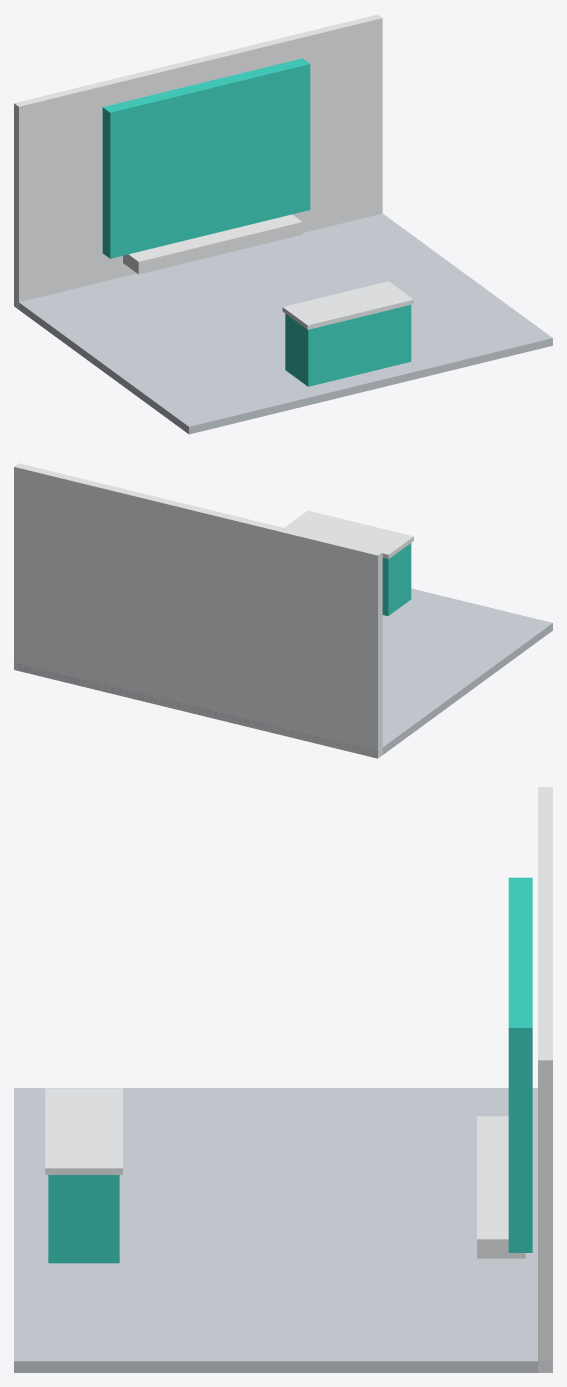
3 renders of one model, top to bottom at view 1: azimuth 30°, elevation 25°; view 2: azimuth 150°, elevation 25°; view 3: azimuth 270°, elevation 25°, orthographic. The views are drawn at different scales.
Parts seen in each view (by area): view 1: Exhibition Booth Concept; view 2: Exhibition Booth Concept; view 3: Exhibition Booth Concept.
Part boxes in pixels (<box>): Exhibition Booth Concept: <box>14,14,552,434</box>; Exhibition Booth Concept: <box>14,463,552,758</box>; Exhibition Booth Concept: <box>14,787,552,1372</box>.
Size of the model in its own units: 6 by 3.2 by 5.
